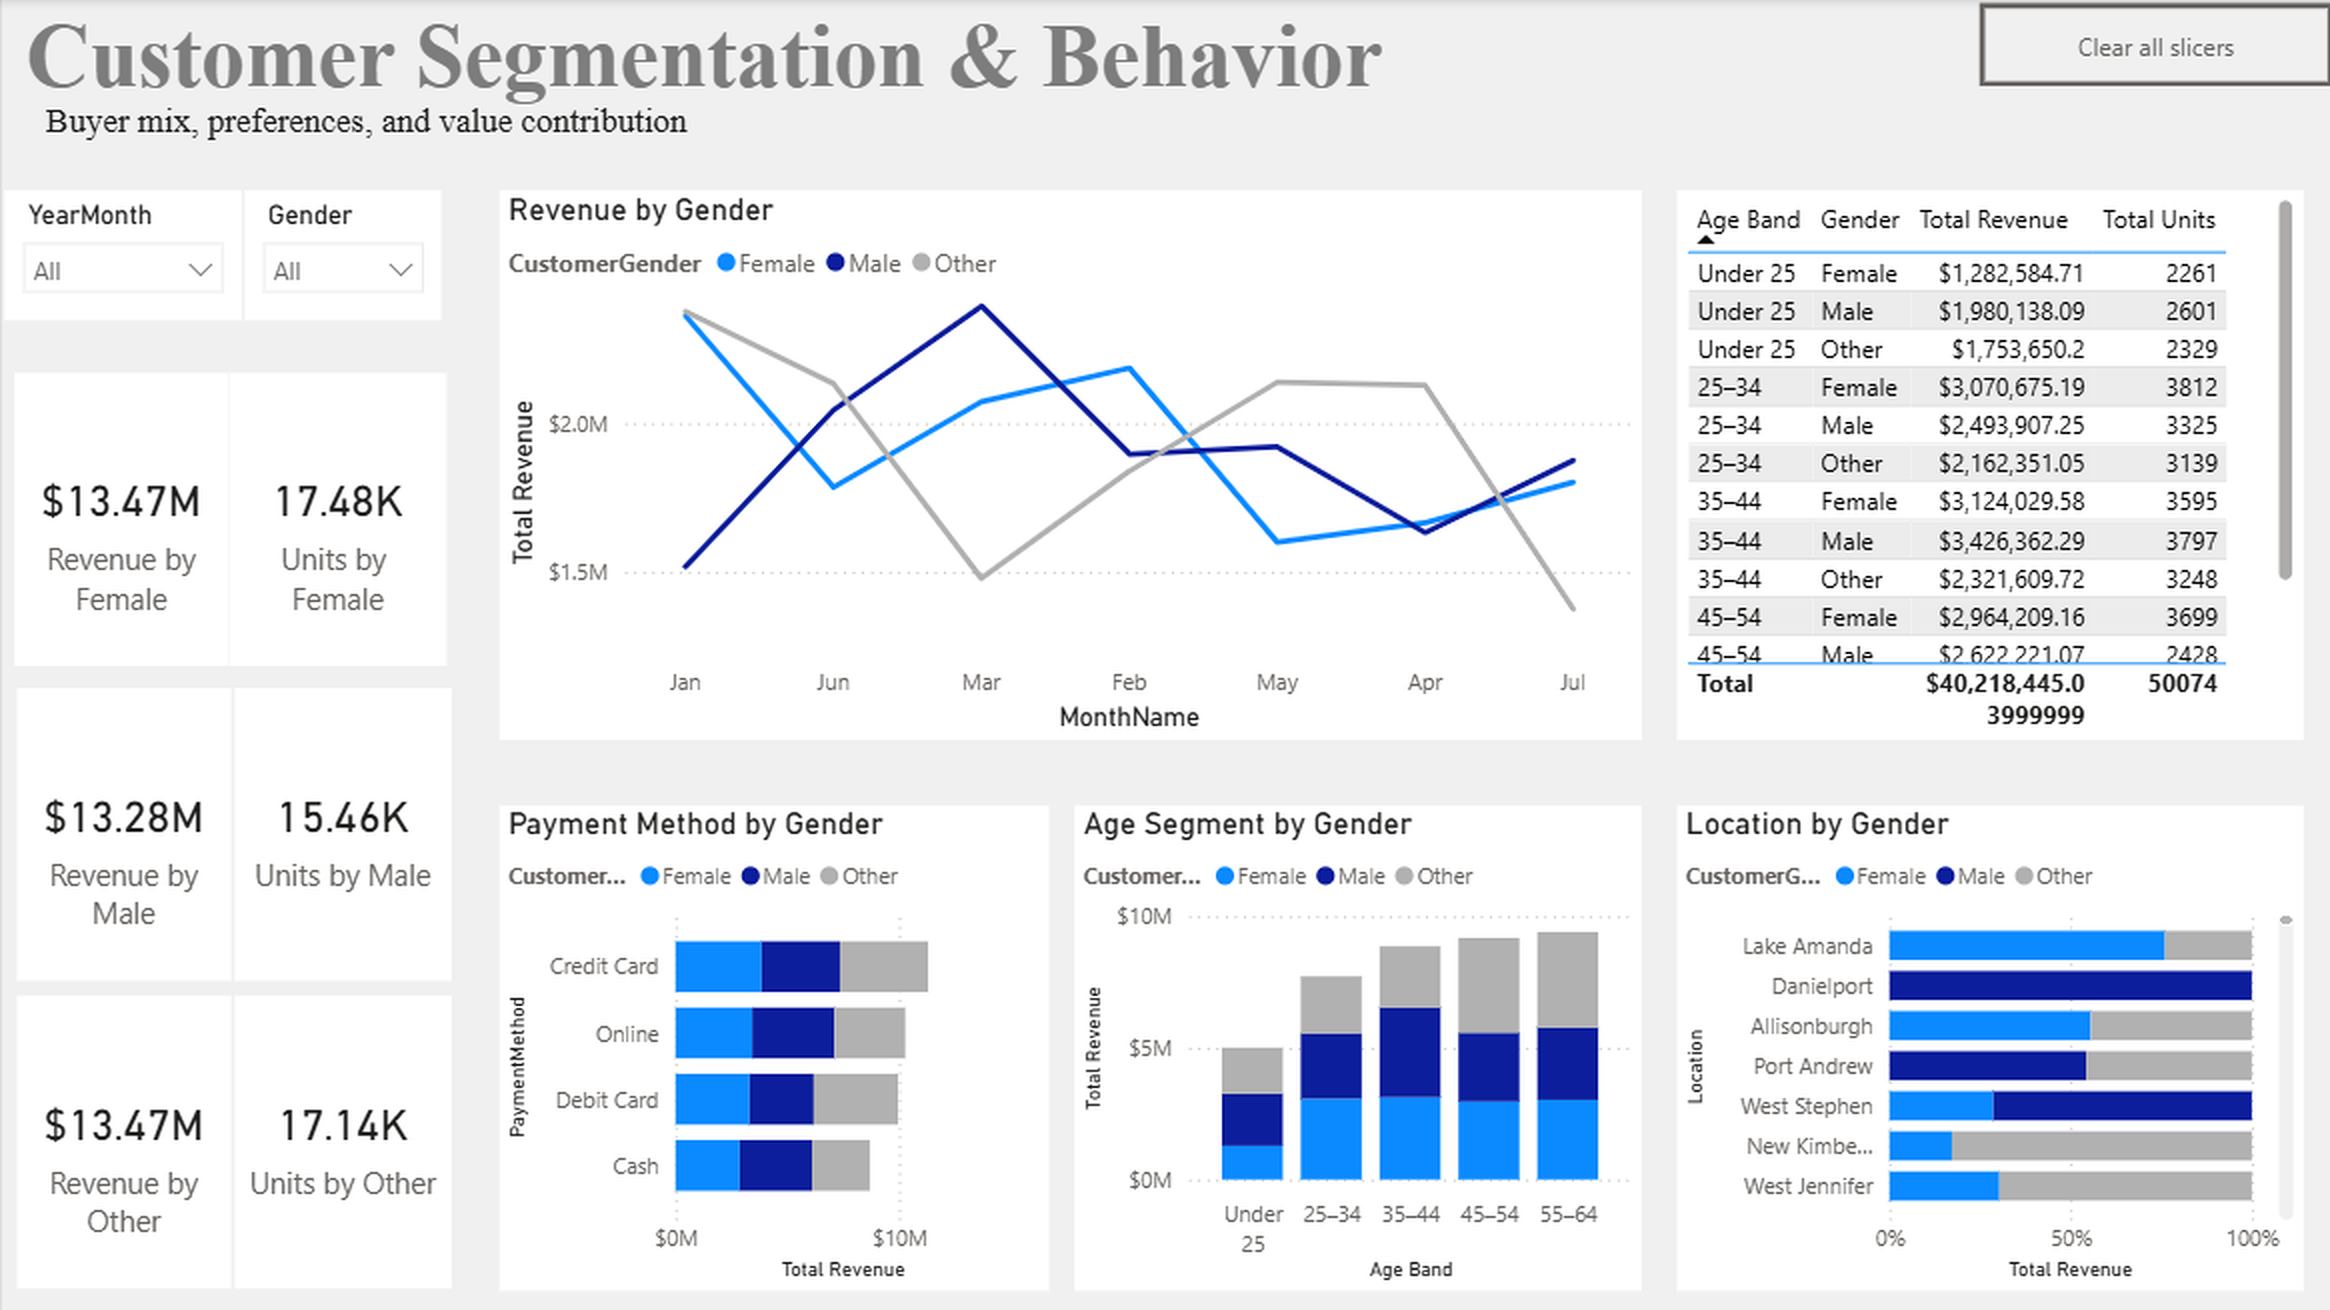

The dashboard page shown, as its layout file describes it:
{"tool":"powerbi","page":{"name":"Segmentation","canvas":[1280,720],"ordinal":2},"visuals":[{"type":"slicer","fields":{"Values":["Date.YearMonth"]},"box":[1.5,105.6,130,71.2],"z":0},{"type":"card","fields":{"Values":["Measures (2).Total Revenue"]},"box":[6.2,206.2,117.7,161],"z":1000},{"type":"card","fields":{"Values":["Measures (2).Total Units"]},"box":[125.4,206.2,119.2,161],"z":2000},{"type":"actionButton","box":[1086,3.4,194,46],"z":3000},{"type":"textbox","box":[7.7,0,815.9,85.1],"z":4000},{"type":"textbox","box":[19.3,52.8,555.9,36],"z":5000},{"type":"slicer","fields":{"Values":["FactSales.CustomerGender"]},"box":[133.1,105.3,108.4,71.2],"z":6000},{"type":"columnChart","title":"Age Segment by Gender","fields":{"Category":["FactSales.Age Band"],"Y":["Measures (2).Total Revenue"],"Series":["FactSales.CustomerGender"]},"box":[588.3,442.8,311.2,266.3],"z":7000},{"type":"hundredPercentStackedBarChart","title":"Location by Gender","fields":{"Category":["DimLocation.Location"],"Y":["Measures (2).Total Revenue"],"Series":["FactSales.CustomerGender"]},"box":[919.6,442.8,343.7,266.3],"z":8000},{"type":"tableEx","fields":{"Values":["FactSales.Age Band","FactSales.CustomerGender","Measures (2).Total Revenue","Measures (2).Total Units"]},"box":[919.6,105.3,343.7,301.9],"z":9000},{"type":"barChart","title":"Payment Method by Gender","fields":{"Y":["Measures (2).Total Revenue"],"Series":["FactSales.CustomerGender"],"Category":["DimPayment.PaymentMethod"]},"box":[272.5,442.8,301.9,266.3],"z":10000},{"type":"card","fields":{"Values":["Measures (2).Total Revenue"]},"box":[8.8,378.5,117.7,161],"z":11000},{"type":"card","fields":{"Values":["Measures (2).Total Units"]},"box":[128,378.5,119.2,161],"z":12000},{"type":"card","fields":{"Values":["Measures (2).Total Revenue"]},"box":[8.1,547.9,117.7,161],"z":13000},{"type":"card","fields":{"Values":["Measures (2).Total Units"]},"box":[127.3,547.9,119.2,161],"z":14000},{"type":"lineChart","title":"Revenue by Gender","fields":{"Category":["Date.MonthName"],"Y":["Measures (2).Total Revenue"],"Series":["FactSales.CustomerGender"]},"box":[272.5,105.3,627,301.9],"z":15000}]}

Visuals, with their boxes in screenshot pixels (x1, y1, x2, y2), scaled from the page's 1280x720 canvas onto the 2330x1310 screenshot:
slicer - Date.YearMonth: locate(3, 192, 239, 322)
card - Measures (2).Total Revenue: locate(11, 375, 226, 668)
card - Measures (2).Total Units: locate(228, 375, 445, 668)
actionButton: locate(1977, 6, 2329, 90)
textbox: locate(14, 0, 1499, 155)
textbox: locate(35, 96, 1047, 162)
slicer - FactSales.CustomerGender: locate(242, 192, 440, 321)
"Age Segment by Gender" columnChart: locate(1071, 806, 1637, 1290)
"Location by Gender" hundredPercentStackedBarChart: locate(1674, 806, 2300, 1290)
tableEx - FactSales.Age Band x FactSales.CustomerGender: locate(1674, 192, 2300, 741)
"Payment Method by Gender" barChart: locate(496, 806, 1046, 1290)
card - Measures (2).Total Revenue: locate(16, 689, 230, 982)
card - Measures (2).Total Units: locate(233, 689, 450, 982)
card - Measures (2).Total Revenue: locate(15, 997, 229, 1290)
card - Measures (2).Total Units: locate(232, 997, 449, 1290)
"Revenue by Gender" lineChart: locate(496, 192, 1637, 741)
